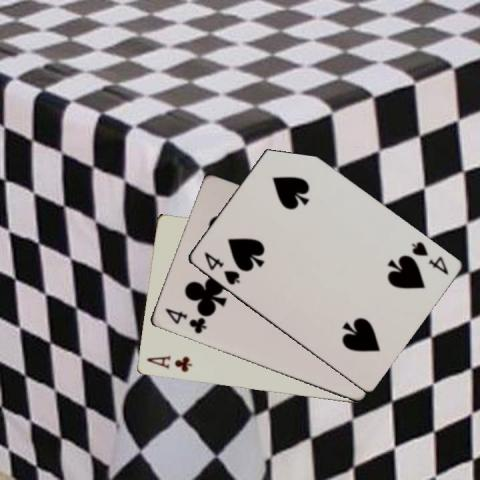4c: (162, 306, 208, 336)
4s: (408, 239, 450, 276), (201, 248, 241, 286)
Ac: (144, 353, 193, 374)
